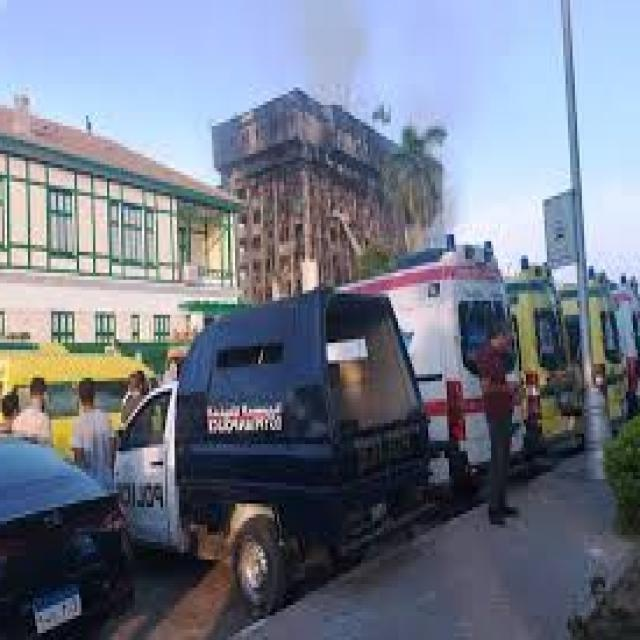Ambulance: (357, 222, 532, 480), (490, 249, 586, 443), (582, 261, 622, 432)
person: (473, 321, 522, 524), (72, 374, 114, 490), (12, 374, 56, 444), (121, 367, 151, 430), (2, 391, 21, 433)
police-car: (89, 290, 414, 600)
